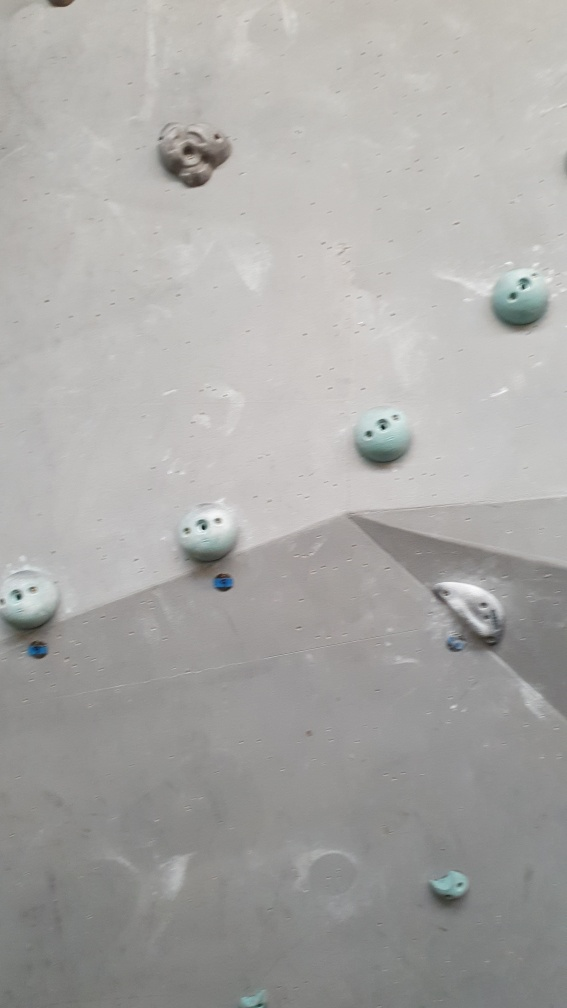Hand Start: (211, 569, 235, 597), (442, 631, 471, 654), (25, 639, 50, 664)
Jug: (154, 118, 238, 190)
Sloper: (486, 262, 557, 331), (346, 404, 417, 467), (1, 562, 63, 630), (178, 501, 241, 566)
